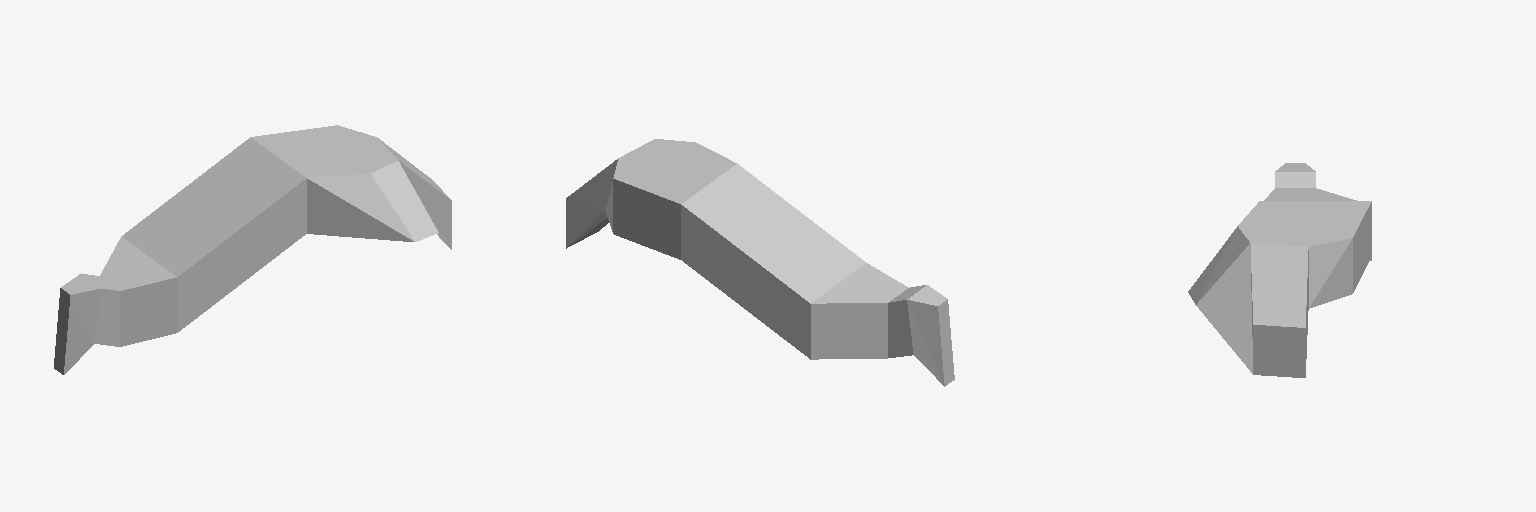
3 views of the same model, side by side, from view 1: azimuth 30°, elevation 25°; view 2: azimuth 150°, elevation 25°; view 3: azimuth 270°, elevation 25° (orthographic).
Parts seen in each view (by area): view 1: World1Patch2; view 2: World1Patch2; view 3: World1Patch2.
Boxes of the visible parts, <box> form: World1Patch2: <box>54,125,451,374</box>; World1Patch2: <box>566,139,954,386</box>; World1Patch2: <box>1188,163,1371,377</box>.
Size of the model in its own units: 29.39 by 11.16 by 12.36.